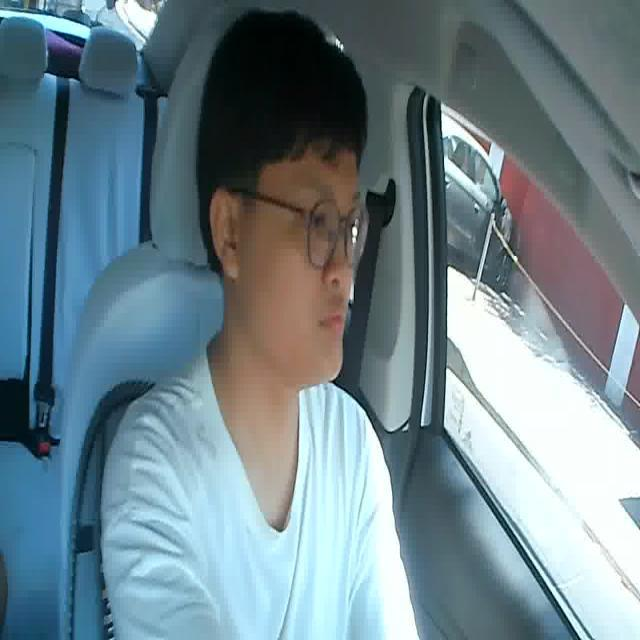Attentive: (198, 9, 361, 392)
Eye-Open: (304, 206, 331, 236), (338, 212, 357, 238)
Normal: (308, 304, 346, 344)
